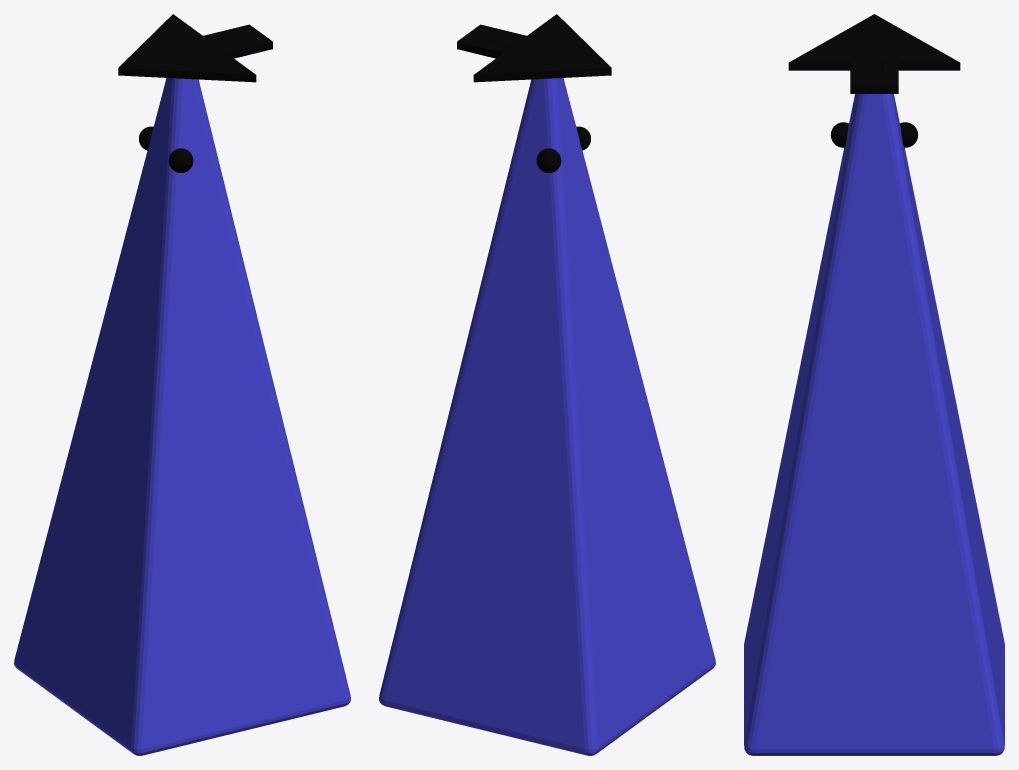
Rendered from tpurple.obj.
The picture shows the model from 3 angles, left to right: view 1: azimuth 30°, elevation 25°; view 2: azimuth 150°, elevation 25°; view 3: azimuth 270°, elevation 25°; orthographic projection. The views are drawn at different scales.
Parts seen in each view (by area): view 1: Cube.019_Cube.007; view 2: Cube.019_Cube.007; view 3: Cube.019_Cube.007.
Part boxes in pixels (<box>): Cube.019_Cube.007: <box>14,14,350,755</box>; Cube.019_Cube.007: <box>379,14,715,755</box>; Cube.019_Cube.007: <box>744,14,1004,755</box>.
Bounding box in the file's own units: 0.1762 × 0.4901 × 0.1762.
